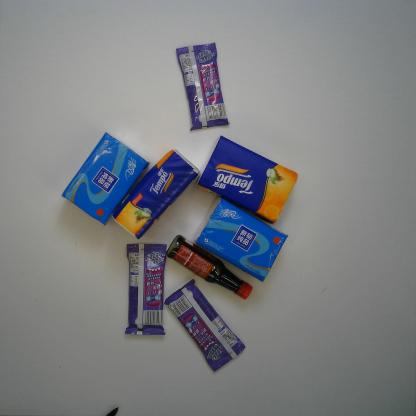Candy: (163, 279, 246, 372), (175, 40, 231, 131), (123, 242, 167, 339)
Seasoner: (164, 232, 254, 300)
Tissue: (193, 134, 299, 224), (110, 147, 202, 242), (192, 194, 289, 284), (60, 131, 150, 227)
